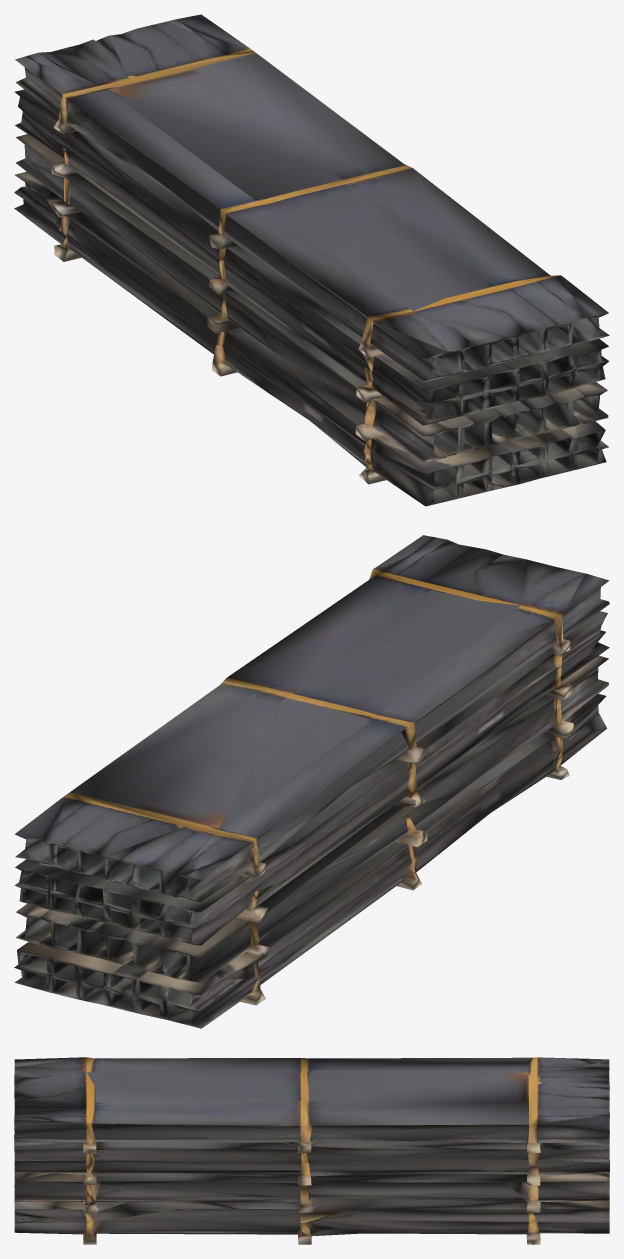
Rendered from beamStack.glb.
The picture shows the model from 3 angles, top to bottom: view 1: azimuth 30°, elevation 25°; view 2: azimuth 150°, elevation 25°; view 3: azimuth 270°, elevation 25°; orthographic projection. The views are drawn at different scales.
Visible parts, largest first — view 1: beamStack; view 2: beamStack; view 3: beamStack.
Boxes of the visible parts, x1,y1,x2,y2 form: beamStack: (14, 14, 609, 506); beamStack: (14, 535, 609, 1028); beamStack: (14, 1057, 609, 1244).
Bounding box in the file's own units: 3.6 × 2.6 × 12.
Materials: 1 (1 with a texture image).
